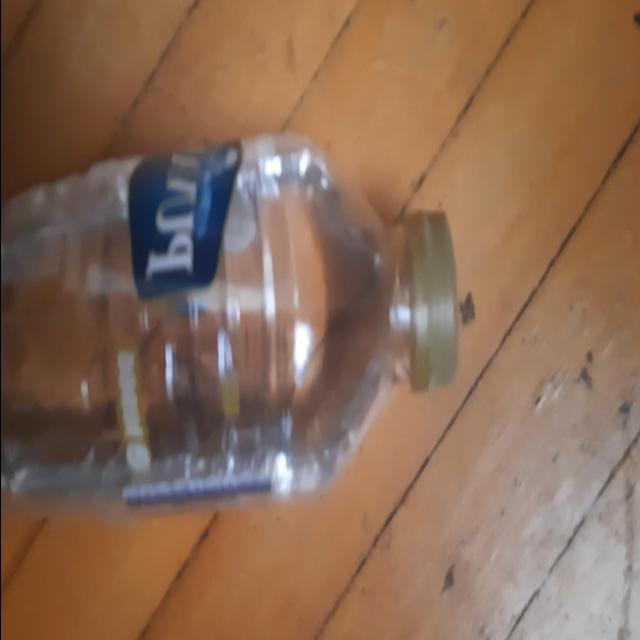Plastic: (0, 132, 458, 523), (122, 142, 282, 510), (409, 216, 452, 394)
